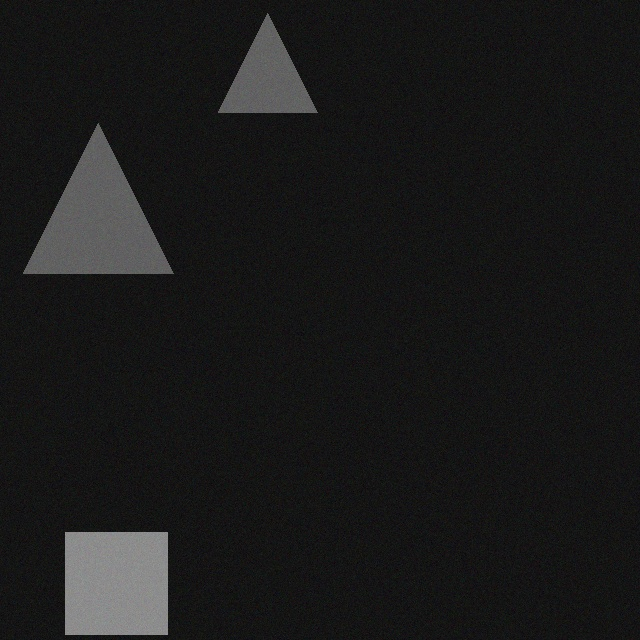square: (72, 526, 174, 628)
triangle: (30, 117, 180, 267), (225, 7, 324, 106)
